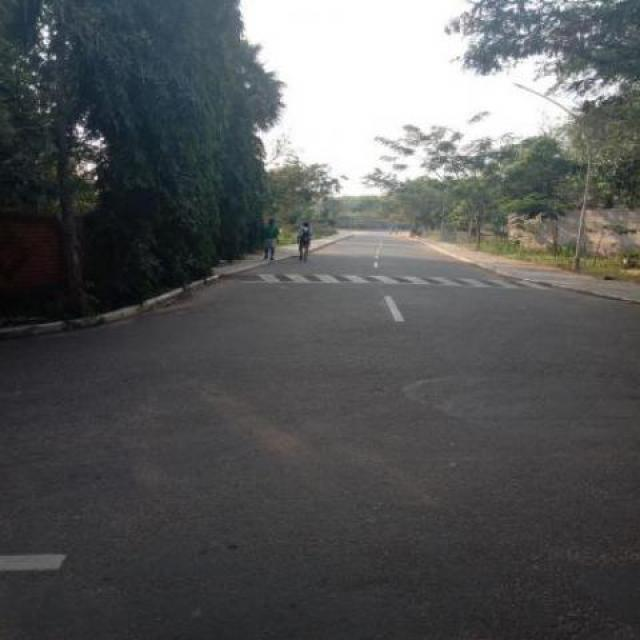Speed Bump: (218, 272, 556, 291)
